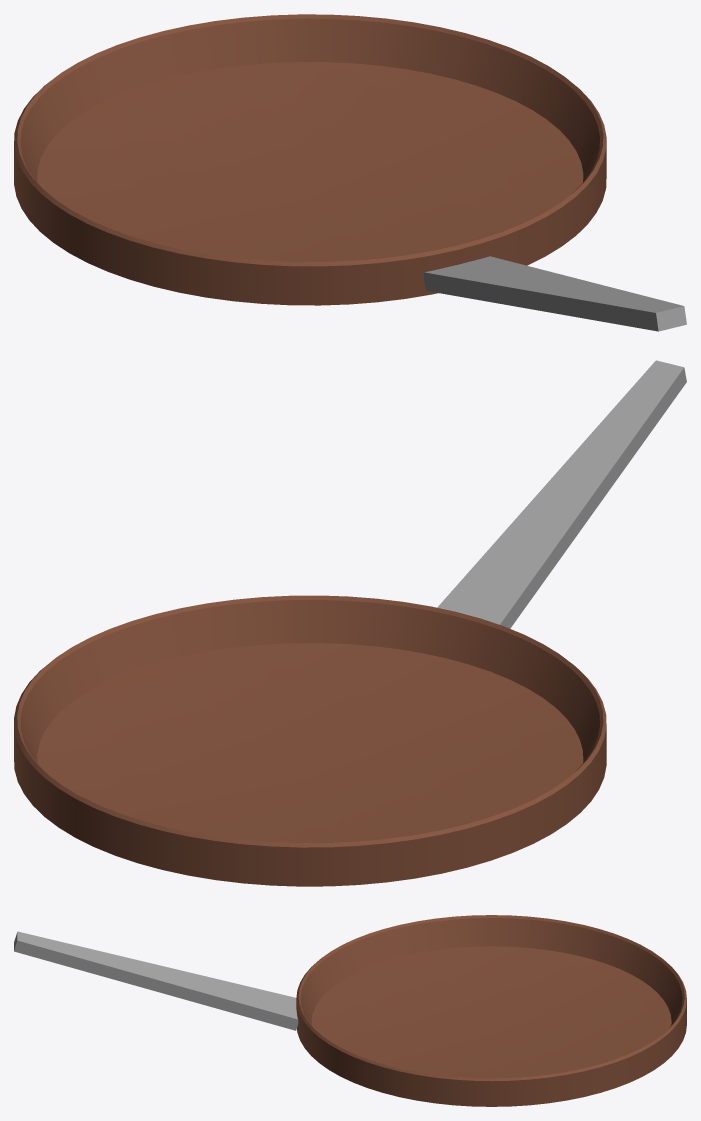
The picture shows the model from 3 angles, top to bottom: view 1: azimuth 30°, elevation 25°; view 2: azimuth 150°, elevation 25°; view 3: azimuth 270°, elevation 25°; orthographic projection. The views are drawn at different scales.
Visible parts, largest first — view 1: pan_shell, grip; view 2: pan_shell, grip; view 3: pan_shell, grip.
Boxes of the visible parts, left/top/right/bottom form: pan_shell: left=14, top=14, right=606, bottom=305; grip: left=424, top=256, right=686, bottom=331; pan_shell: left=14, top=595, right=606, bottom=886; grip: left=437, top=360, right=686, bottom=628; pan_shell: left=296, top=915, right=686, bottom=1106; grip: left=14, top=931, right=298, bottom=1030.
Size of the model in its own units: 0.217 by 0.0612 by 0.3738.
